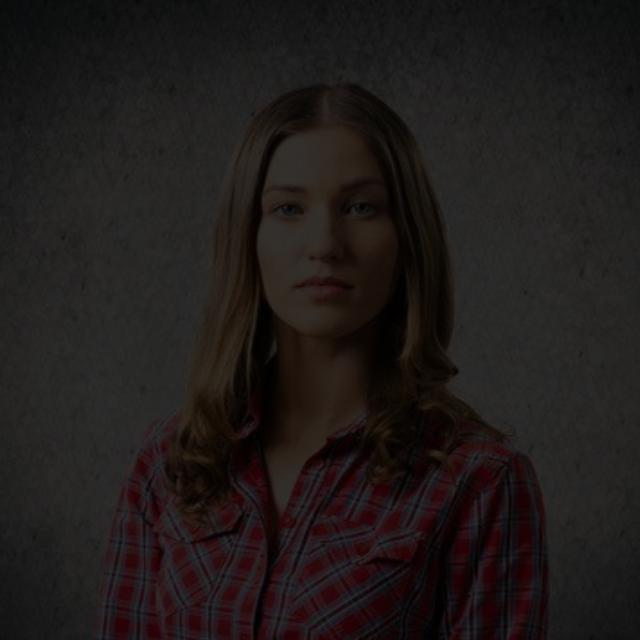Natural: (212, 139, 452, 401)
